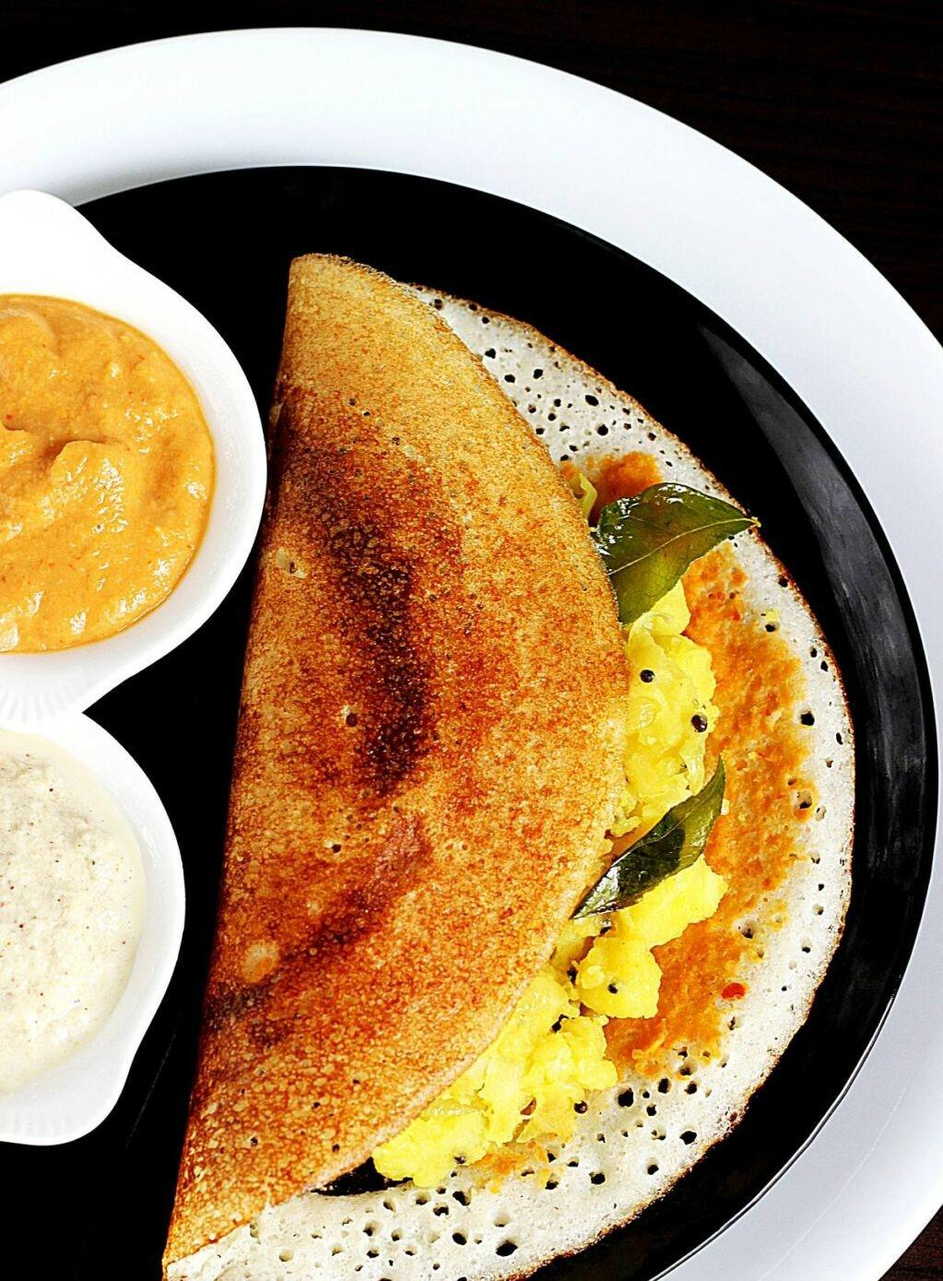CoconutChutney: (0, 729, 145, 1097)
Dosa: (162, 253, 856, 1281)
